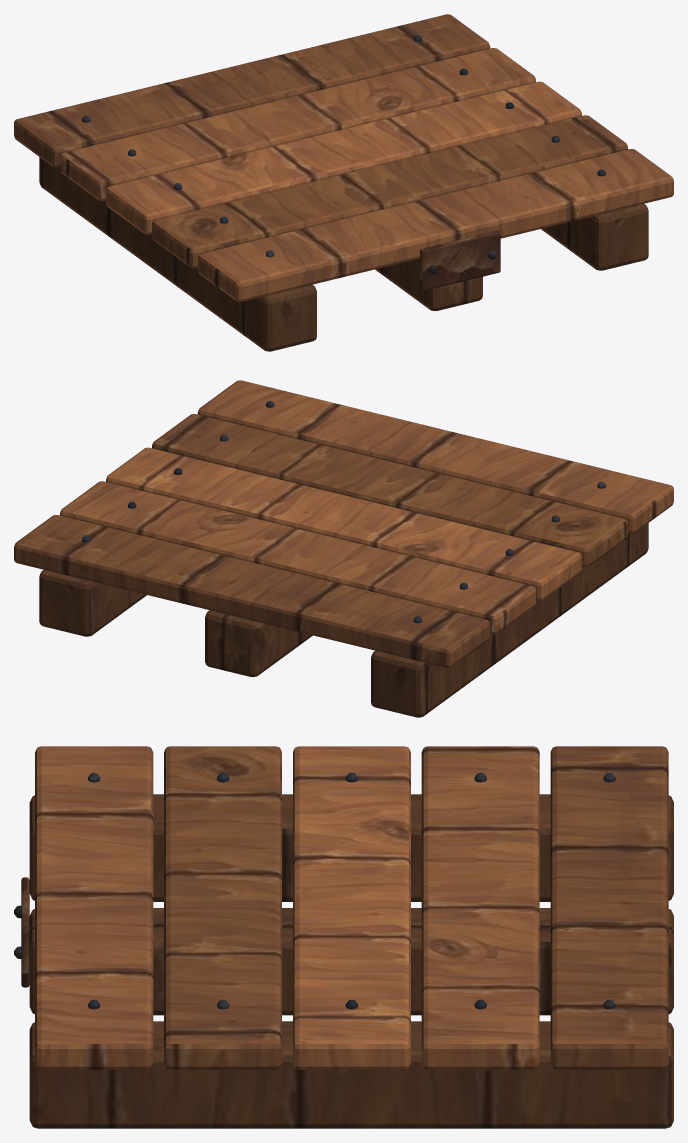
The model's file is cf_ingot_stack_empty.glb.
3 renders of one model, top to bottom at view 1: azimuth 30°, elevation 25°; view 2: azimuth 150°, elevation 25°; view 3: azimuth 270°, elevation 25°, orthographic. The views are drawn at different scales.
Parts seen in each view (by area): view 1: model; view 2: model; view 3: model.
Boxes of the visible parts, <box> form: model: <box>14,14,673,351</box>; model: <box>14,380,673,717</box>; model: <box>14,746,673,1128</box>.
Bounding box in the file's own units: 0.66 × 0.117 × 0.6147.
Materials: 6 (6 with a texture image).
